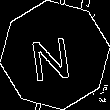N_N: (32, 27, 78, 83)
